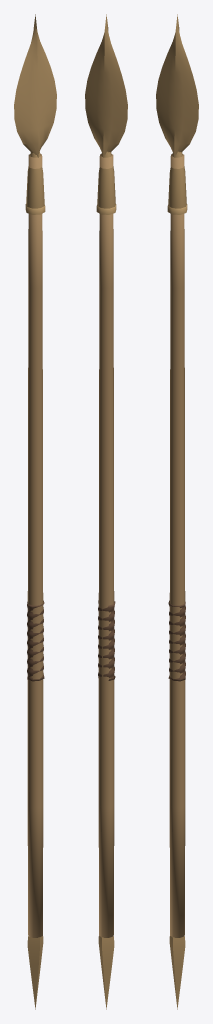
Rendered from doru.glb.
3 renders of one model, left to right at view 1: azimuth 30°, elevation 25°; view 2: azimuth 150°, elevation 25°; view 3: azimuth 330°, elevation 25°, orthographic.
Parts seen in each view (by area): view 1: doru; view 2: doru; view 3: doru.
Boxes of the visible parts, x1=… form: doru: x1=14, y1=14, x2=56, y2=1009; doru: x1=85, y1=14, x2=127, y2=1009; doru: x1=156, y1=14, x2=198, y2=1009.
Bounding box in the file's own units: 0.2381 × 5.3 × 0.0991.
